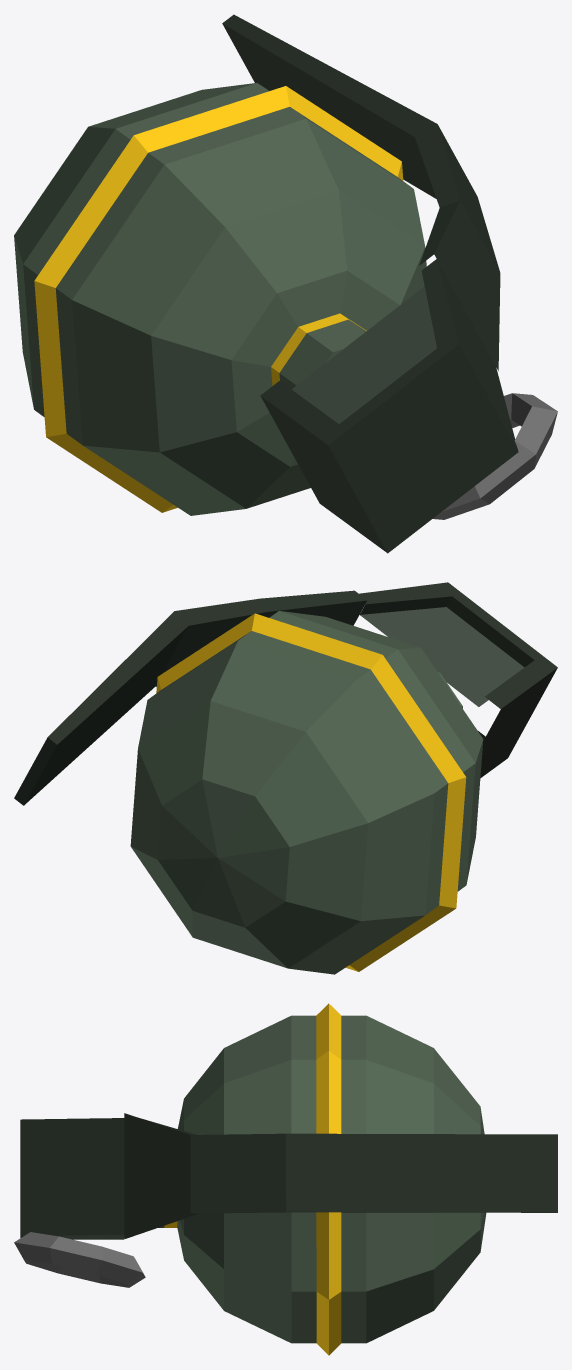
Rendered from Frag_TH.glb.
3 renders of one model, top to bottom at view 1: azimuth 30°, elevation 25°; view 2: azimuth 150°, elevation 25°; view 3: azimuth 270°, elevation 25°, orthographic. The views are drawn at different scales.
Parts seen in each view (by area): view 1: FragGrenade (1); view 2: FragGrenade (1); view 3: FragGrenade (1).
Part boxes in pixels (x1,y1,x2,y2): FragGrenade (1): (14, 14, 557, 553); FragGrenade (1): (14, 582, 557, 974); FragGrenade (1): (14, 1003, 557, 1355).
Bounding box in the file's own units: 0.1277 × 0.1167 × 0.1893.
Materials: 1 (1 with a texture image).
